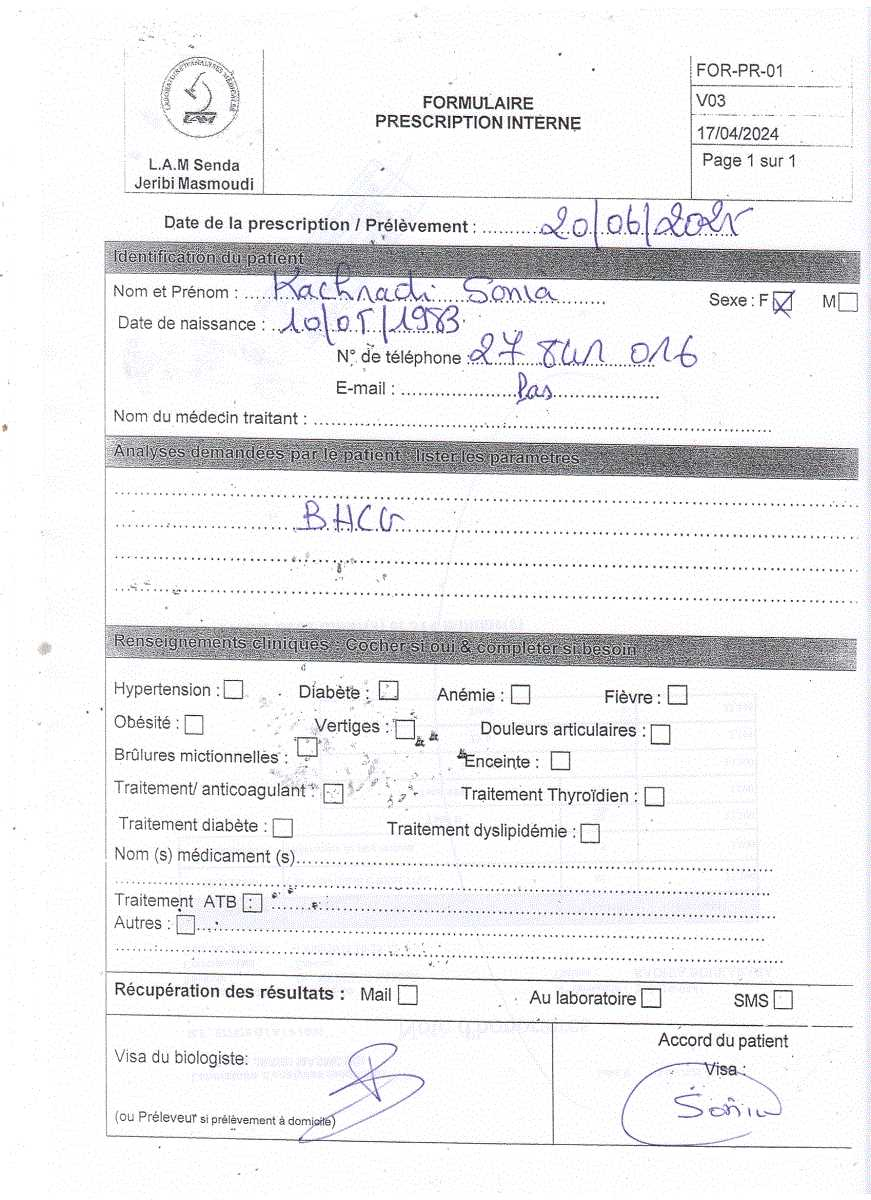zone_analyses: (106, 434, 761, 570)
zone_date: (156, 192, 782, 243)
zone_patient: (103, 241, 864, 405)
